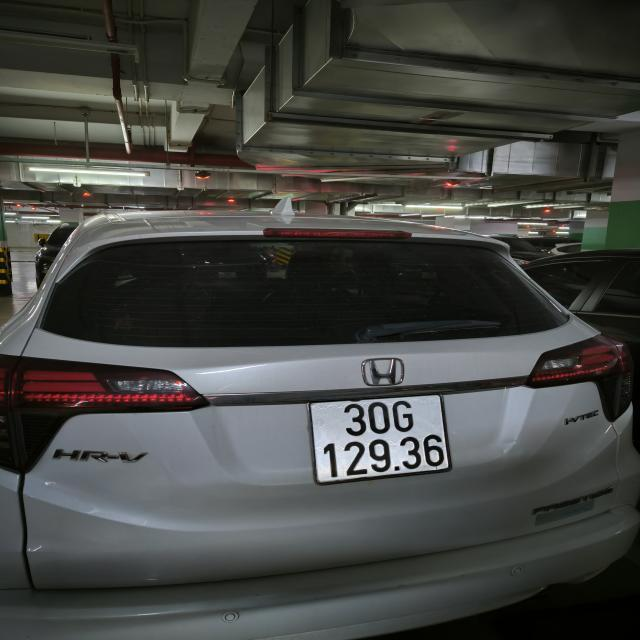license: (308, 392, 451, 484)
